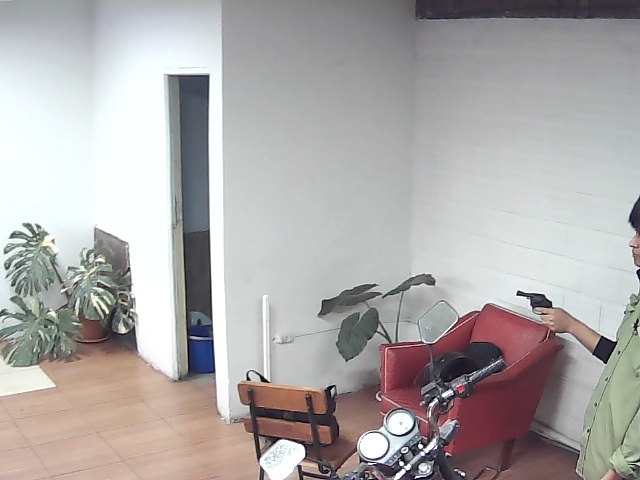pistola: (510, 285, 574, 339)
